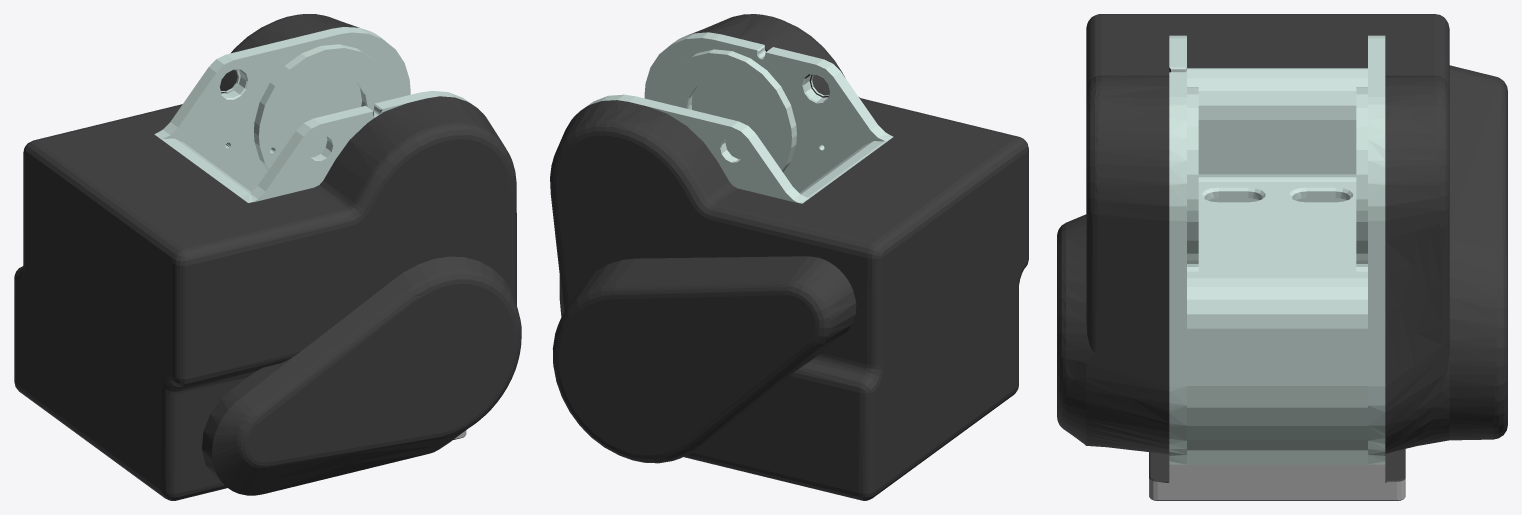
3 renders of one model, left to right at view 1: azimuth 30°, elevation 25°; view 2: azimuth 150°, elevation 25°; view 3: azimuth 270°, elevation 25°, orthographic. The views are drawn at different scales.
Visible parts, largest first — view 1: J1_Link; view 2: J1_Link; view 3: J1_Link.
Part boxes in pixels (bbox=[...]): J1_Link: bbox=[14, 14, 521, 500]; J1_Link: bbox=[550, 14, 1028, 500]; J1_Link: bbox=[1057, 14, 1507, 500].
Size of the model in its own units: 0.16 by 0.1545 by 0.152.
